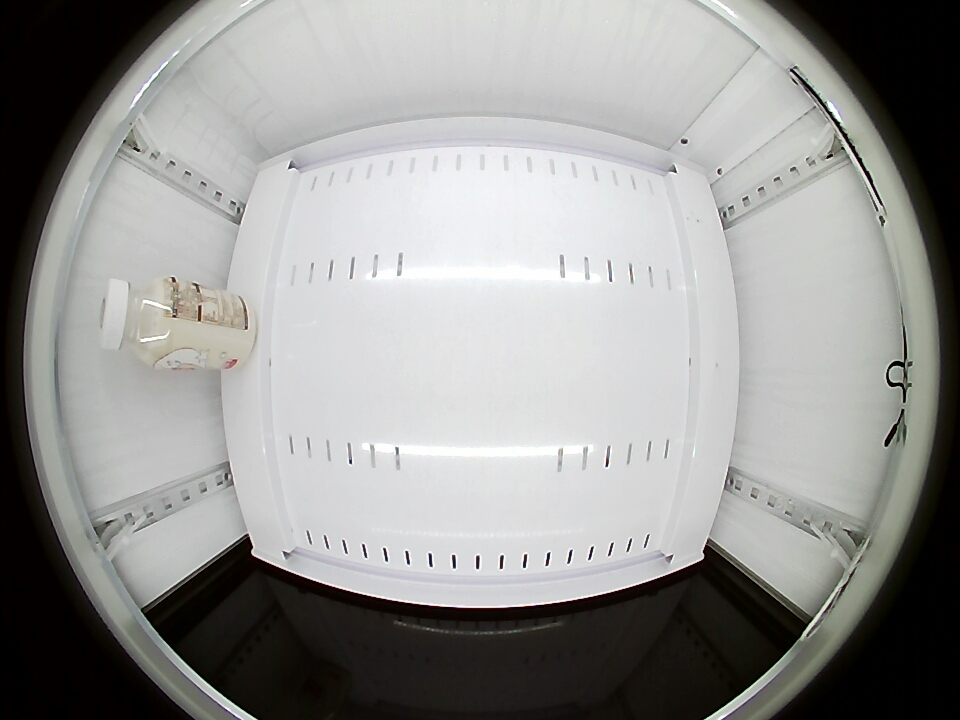weiweidounai: (97, 275, 184, 368)
